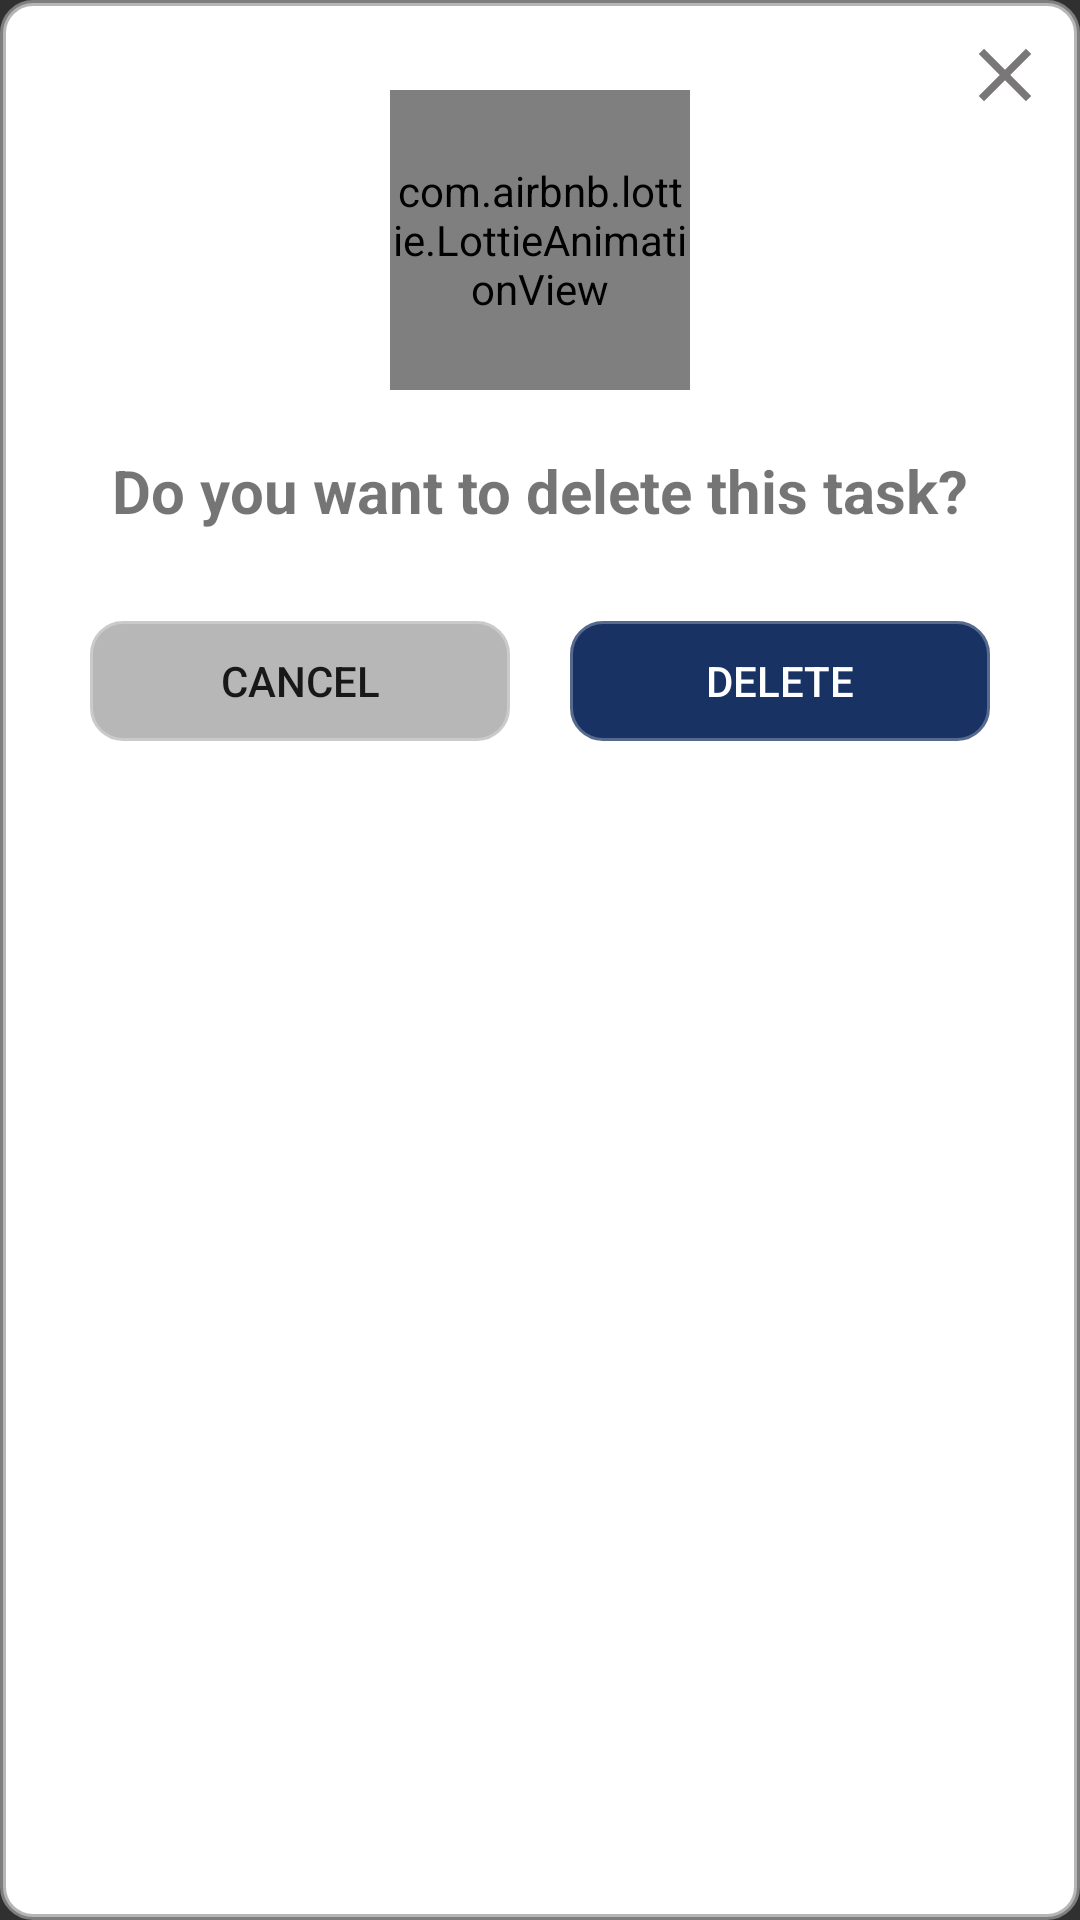

Locate icon controls on the screen. Image size 1080px×1920px, boxes as (x1, y1, x2, y2).
close: (979, 49, 1031, 101)
